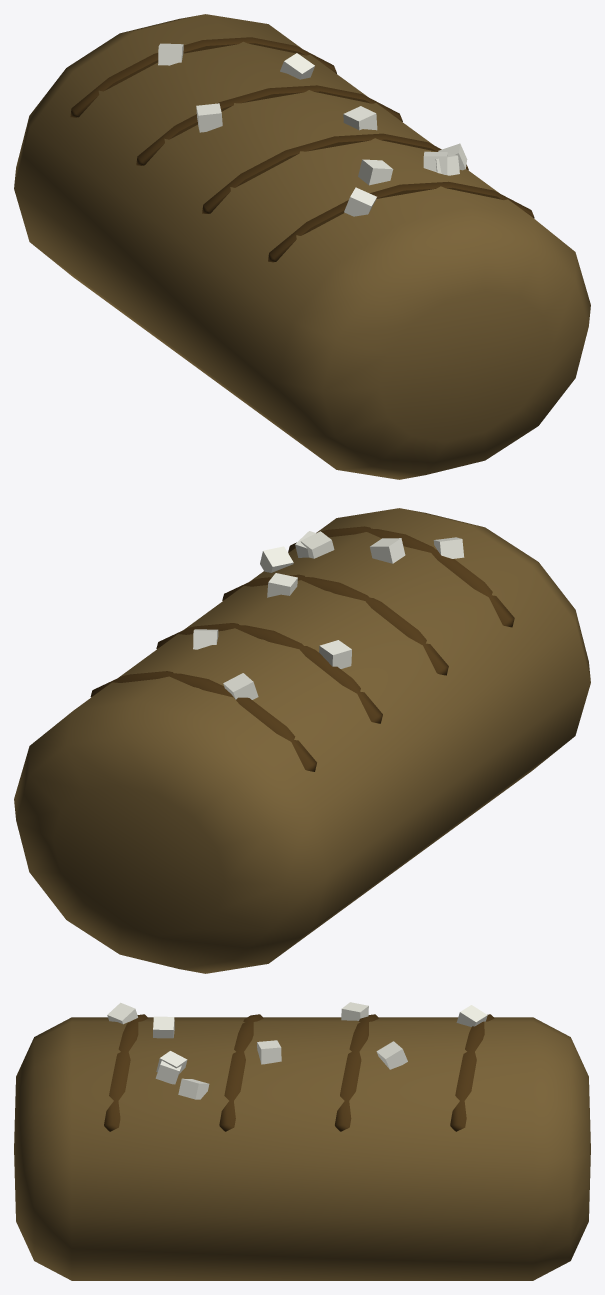
Rendered from shot_pretzel_rod_big.glb.
The picture shows the model from 3 angles, top to bottom: view 1: azimuth 30°, elevation 25°; view 2: azimuth 150°, elevation 25°; view 3: azimuth 270°, elevation 25°; orthographic projection. The views are drawn at different scales.
Parts seen in each view (by area): view 1: prb_body, prb_score.001, prb_score.003, prb_score, prb_score.002, prb_salt.005, prb_salt.007, prb_salt.006, prb_salt.004, prb_salt; view 2: prb_body, prb_score.003, prb_score.002, prb_score.001, prb_score, prb_salt.005, prb_salt.007, prb_salt.008, prb_salt.001; view 3: prb_body, prb_score.001, prb_score.002, prb_score, prb_score.003, prb_salt, prb_salt.006, prb_salt.008, prb_salt.005, prb_salt.001, prb_salt.004, prb_salt.007 (+1 smaller).
Part boxes in pixels (x1,y1,x2,y2): prb_body: [14, 14, 590, 479]; prb_score.001: [202, 133, 468, 213]; prb_score.003: [70, 37, 336, 117]; prb_score: [268, 181, 534, 262]; prb_score.002: [136, 85, 402, 165]; prb_salt.005: [358, 159, 393, 185]; prb_salt.007: [196, 103, 222, 132]; prb_salt.006: [343, 106, 377, 130]; prb_salt.004: [344, 187, 376, 216]; prb_salt: [280, 53, 314, 79]; prb_body: [14, 508, 590, 973]; prb_score.003: [90, 671, 316, 771]; prb_score.002: [156, 623, 382, 723]; prb_score.001: [222, 574, 448, 675]; prb_score: [288, 526, 514, 627]; prb_salt.005: [370, 538, 405, 563]; prb_salt.007: [319, 640, 351, 668]; prb_salt.008: [260, 546, 293, 572]; prb_salt.001: [223, 673, 258, 699]; prb_body: [14, 1017, 590, 1280]; prb_score.001: [219, 1014, 263, 1131]; prb_score.002: [335, 1014, 379, 1131]; prb_score: [104, 1014, 148, 1131]; prb_score.003: [450, 1014, 494, 1131]; prb_salt: [376, 1041, 407, 1069]; prb_salt.006: [257, 1040, 281, 1064]; prb_salt.008: [178, 1078, 209, 1099]; prb_salt.005: [153, 1016, 174, 1038]; prb_salt.001: [456, 1005, 487, 1026]; prb_salt.004: [107, 1002, 137, 1024]; prb_salt.007: [341, 1002, 368, 1020].
Bounding box in the file's own units: 7.7 × 6.39 × 14.
